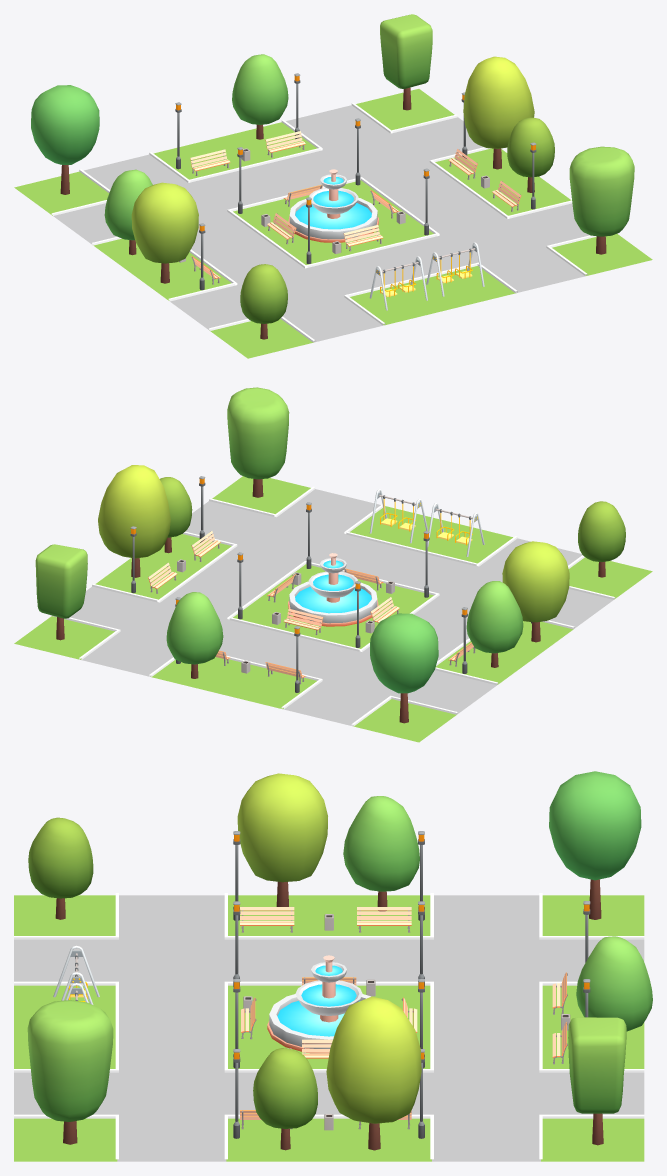
Rendered from Entertainment_Park_09.glb.
3 views of the same model, one above another, from view 1: azimuth 30°, elevation 25°; view 2: azimuth 150°, elevation 25°; view 3: azimuth 270°, elevation 25° (orthographic). The views are drawn at different scales.
Parts seen in each view (by area): view 1: Entertainment_Park_09; view 2: Entertainment_Park_09; view 3: Entertainment_Park_09.
Part boxes in pixels (x1,y1,x2,y2): Entertainment_Park_09: (14,14,652,358); Entertainment_Park_09: (14,387,652,742); Entertainment_Park_09: (14,771,652,1161).
Size of the model in its own units: 31.67 by 7.92 by 30.41.
2 materials, 2 textured.
